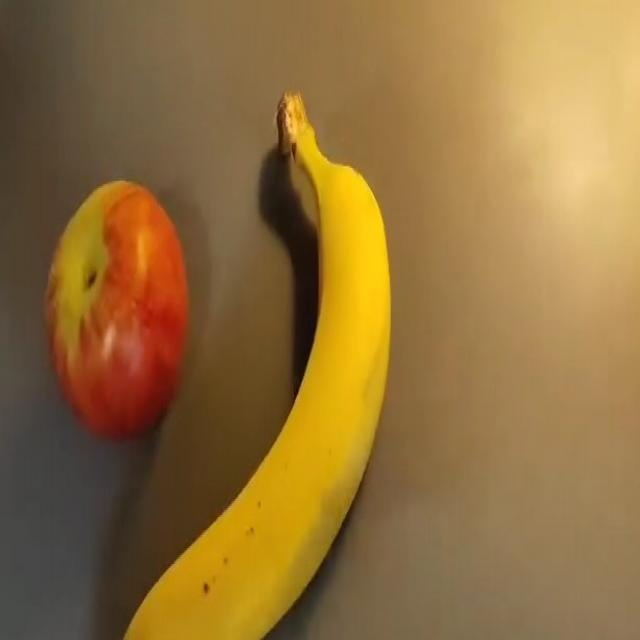Apple: (44, 175, 195, 441)
Banana: (135, 103, 397, 640)
